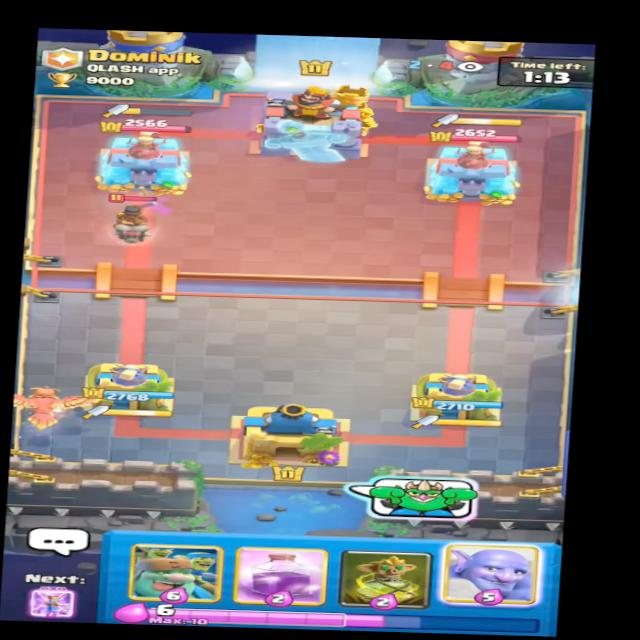ram-rider: (105, 194, 157, 242)
